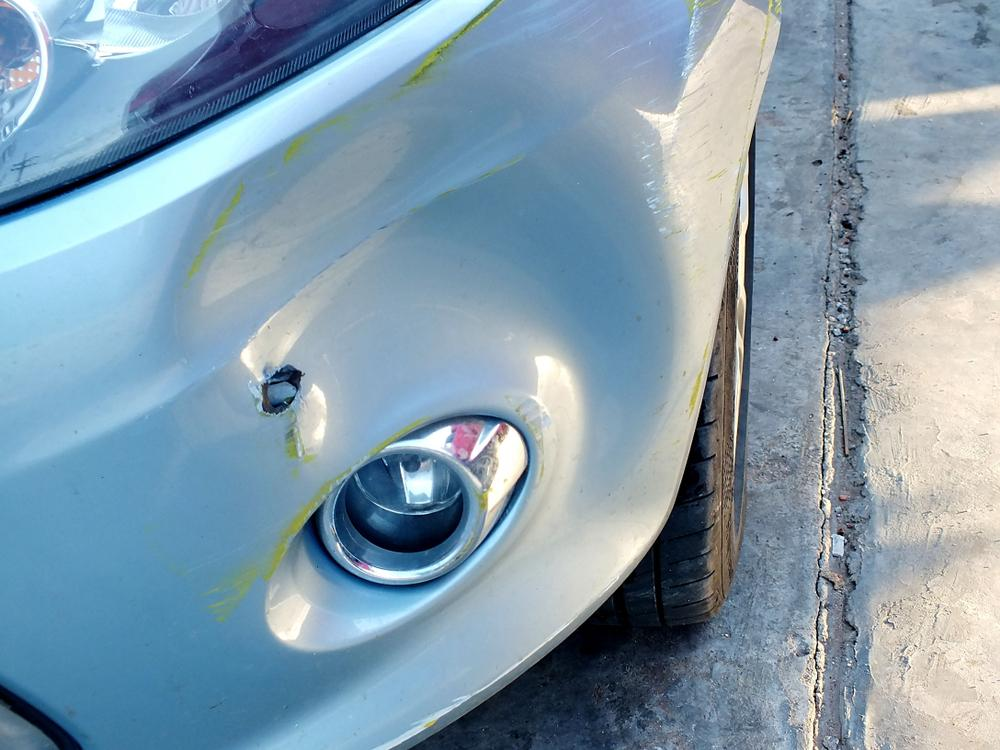dent: (195, 86, 679, 509)
scratch: (370, 619, 563, 750), (201, 471, 357, 624)
